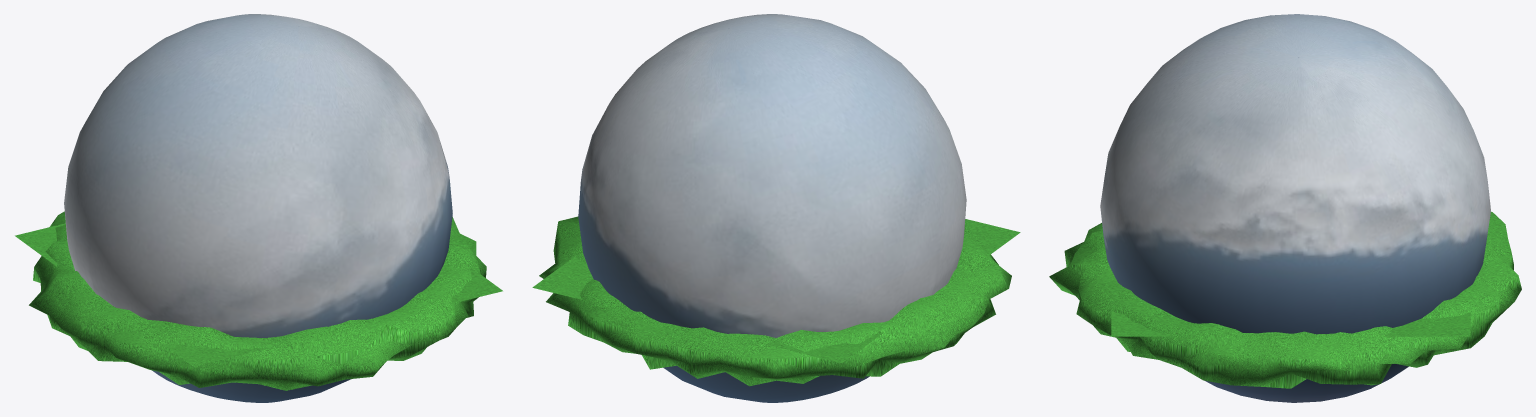
File: SignLanguageSchool.gltf
3 renders of one model, left to right at view 1: azimuth 30°, elevation 25°; view 2: azimuth 150°, elevation 25°; view 3: azimuth 270°, elevation 25°, orthographic.
Visible parts, largest first — view 1: sky, backdrop, ground; view 2: sky, backdrop, ground; view 3: sky, backdrop, ground.
Boxes of the visible parts, left/top/right/bottom form: sky: left=64, top=14, right=452, bottom=402; backdrop: left=29, top=211, right=486, bottom=390; ground: left=15, top=223, right=502, bottom=366; sky: left=578, top=14, right=966, bottom=402; backdrop: left=539, top=216, right=1011, bottom=386; ground: left=532, top=219, right=1020, bottom=363; sky: left=1100, top=14, right=1490, bottom=402; backdrop: left=1049, top=211, right=1521, bottom=388; ground: left=1111, top=311, right=1470, bottom=336.
Bounding box in the file's own units: 43.53 × 36.41 × 44.13.
Materials: 10 (8 with a texture image).
